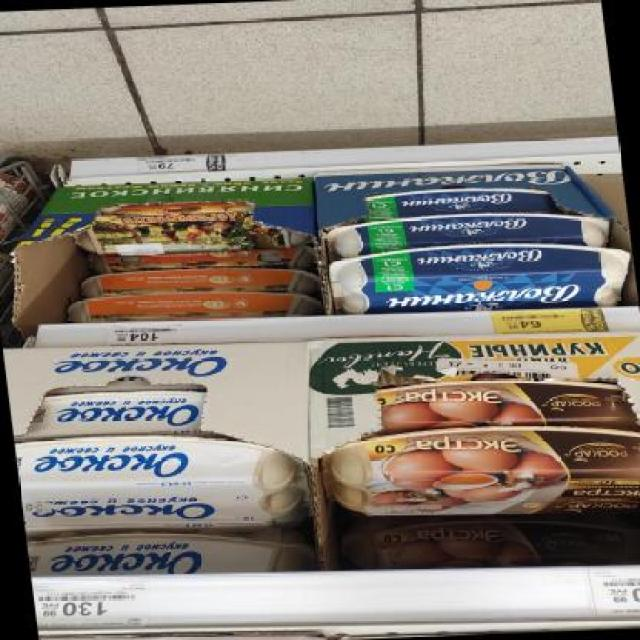Egg: (318, 418, 639, 527), (15, 429, 302, 533), (336, 509, 639, 571), (26, 522, 312, 583), (375, 373, 639, 438), (26, 386, 209, 439)
